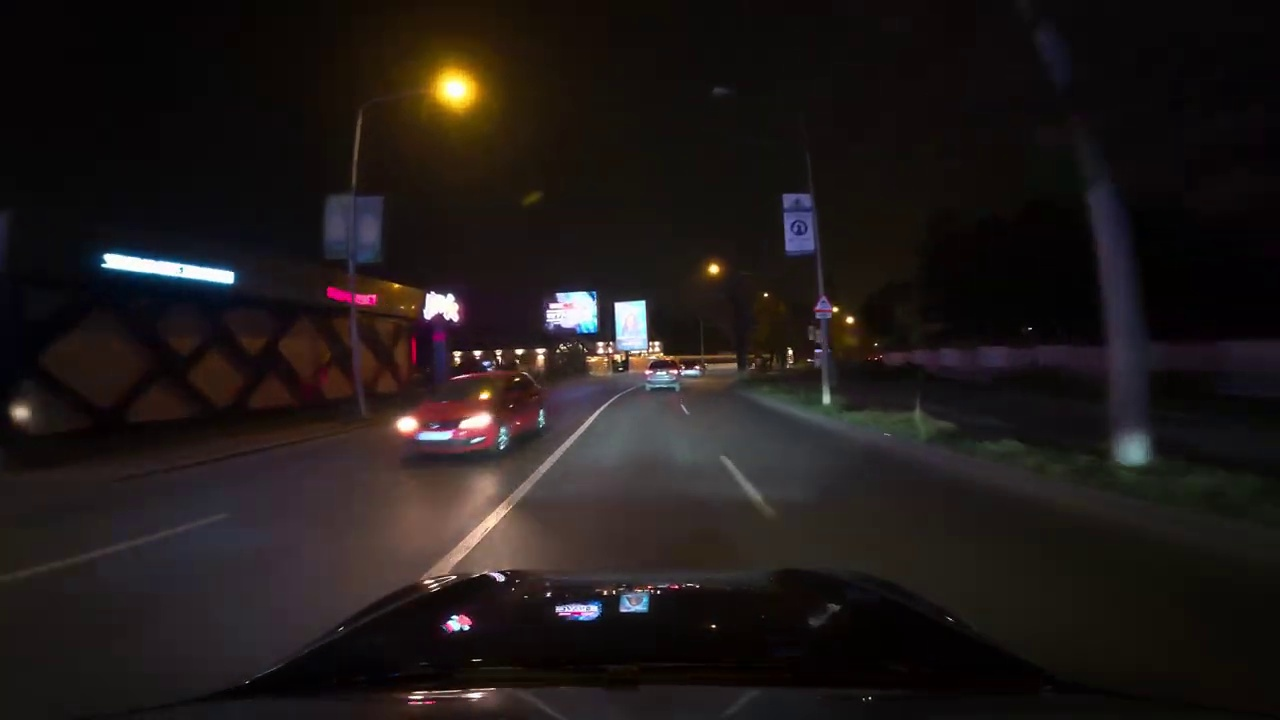acesa: (431, 69, 478, 114), (701, 258, 725, 281)
